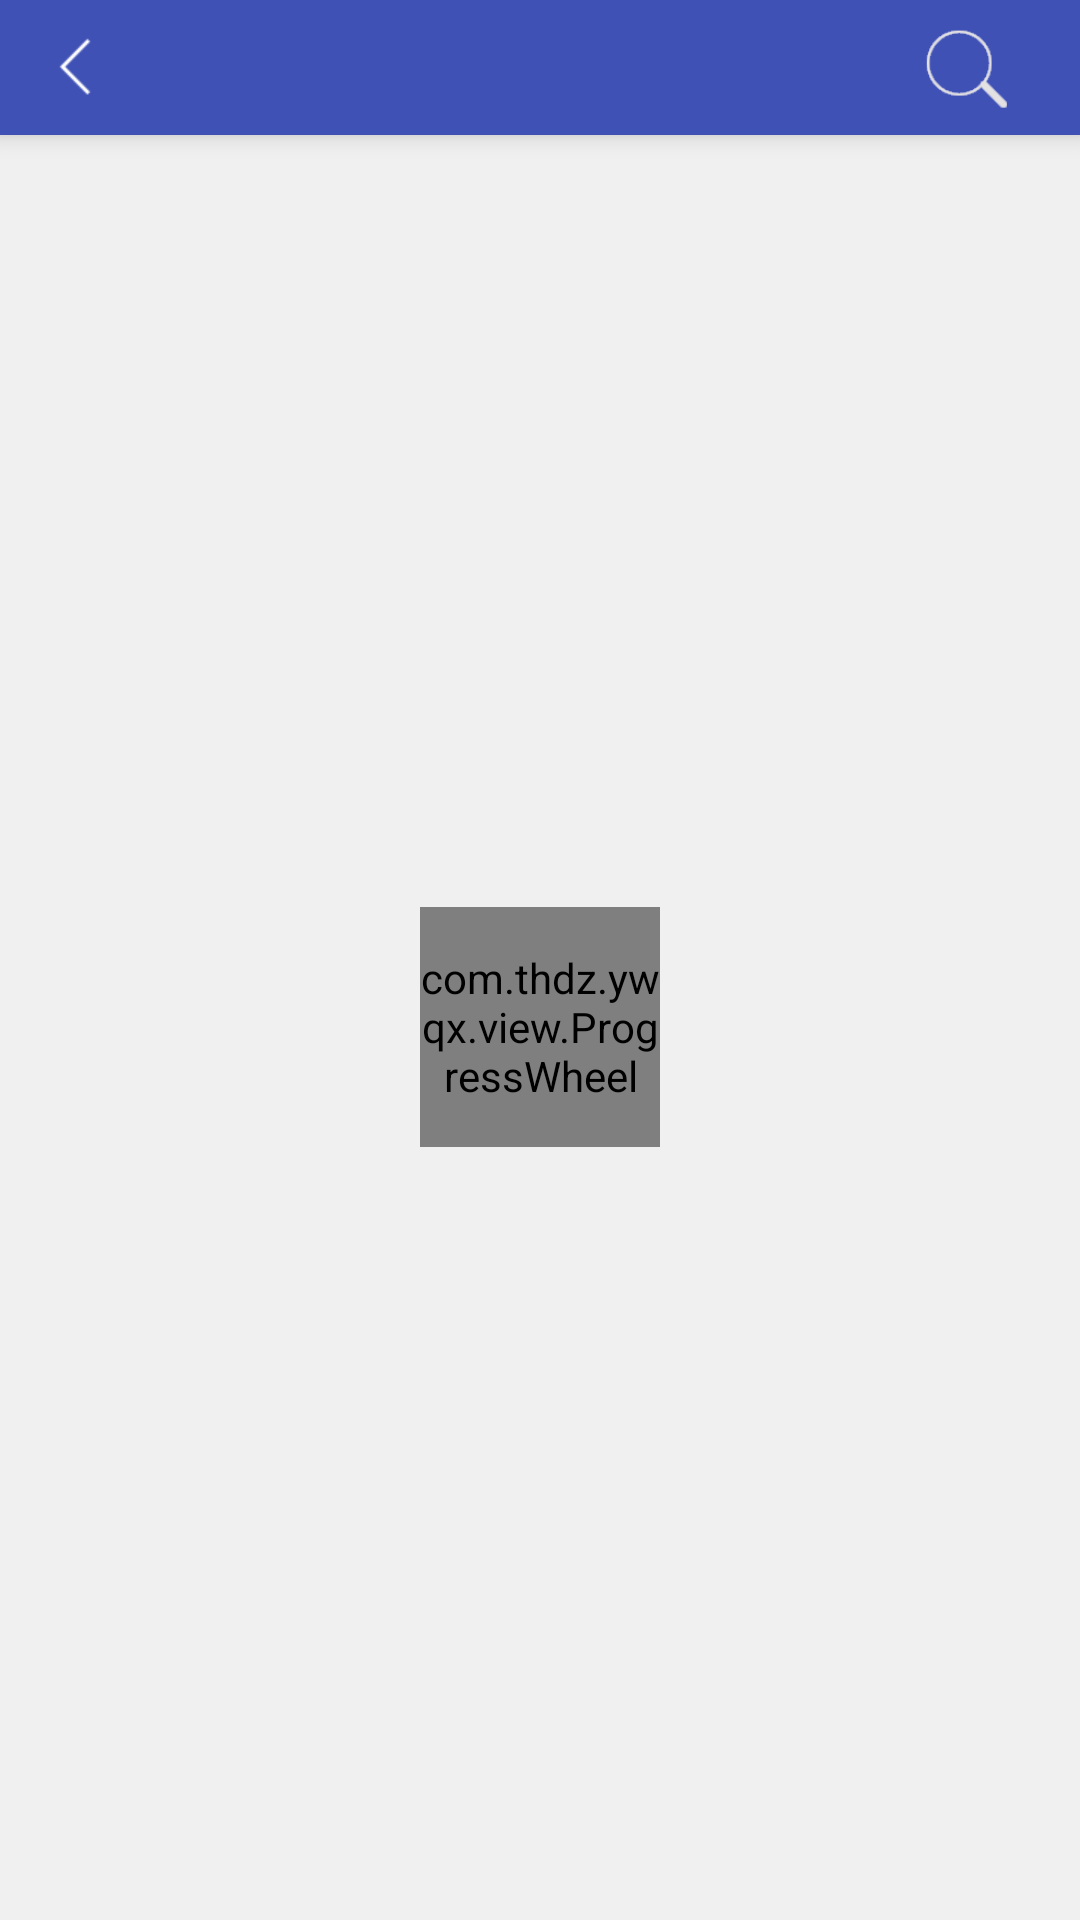

Icons on this 1080w x 1920h Android screen, each with the point to tap as point (x, y):
fanhui: point (75, 67)
search: point (966, 69)
